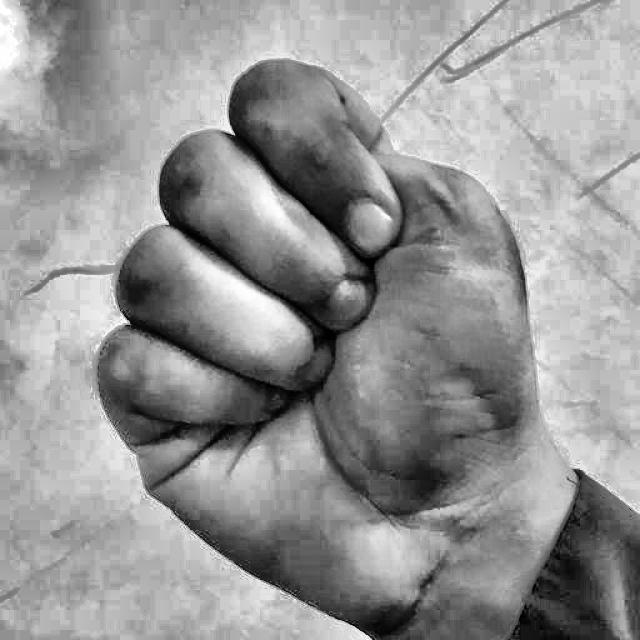To: (79, 38, 575, 630)
